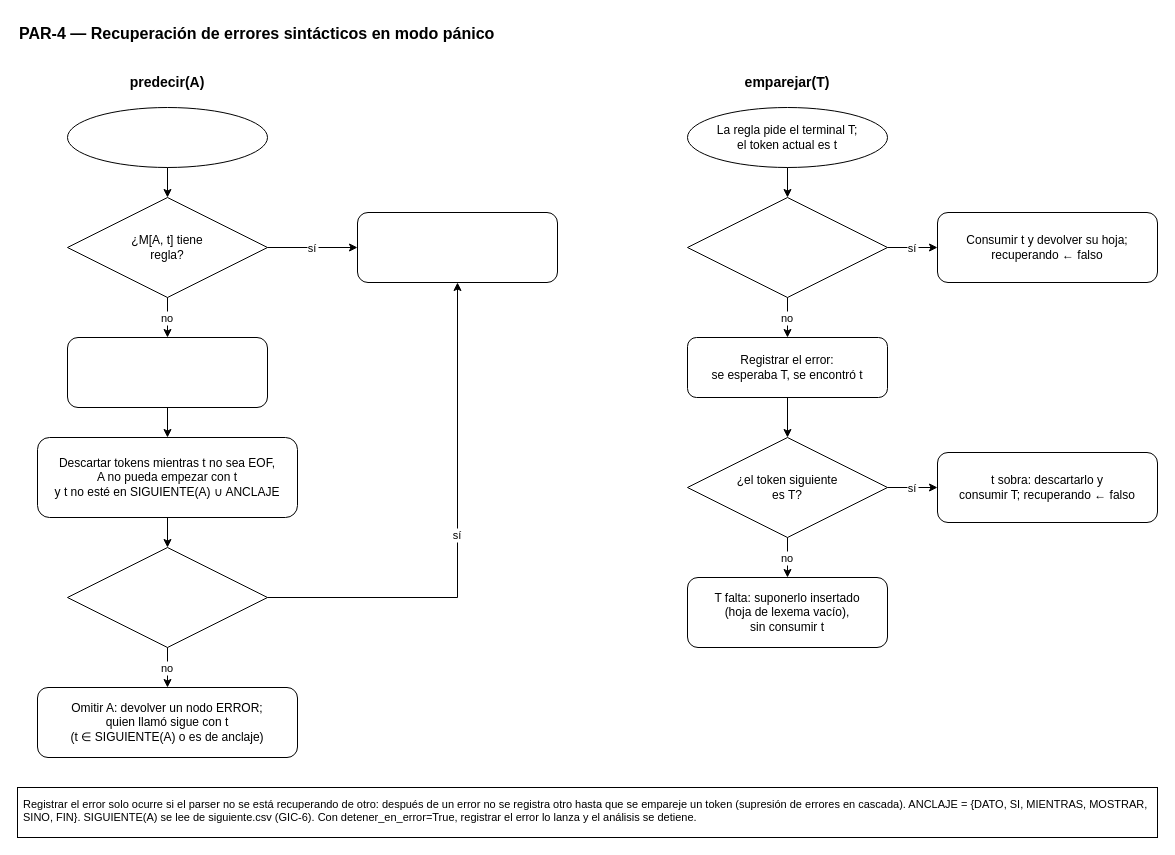
Image size: 1175x855. Some labels were removed from this diagram. The shapes that lost their labels are listed below. From the top down, each one's centre as x and y in pixels, then its label:
At [167,137]: "Entrar a la función de A con el token actual t".
At [457,247]: "Aplicar la regla: crear el nodo y recorrer su lado derecho".
At [787,247]: "¿t es T?".
At [167,372]: "Registrar el error: se esperaba la fila de A, se encontró t".
At [167,597]: "¿M[A, t] tiene regla ahora?".
